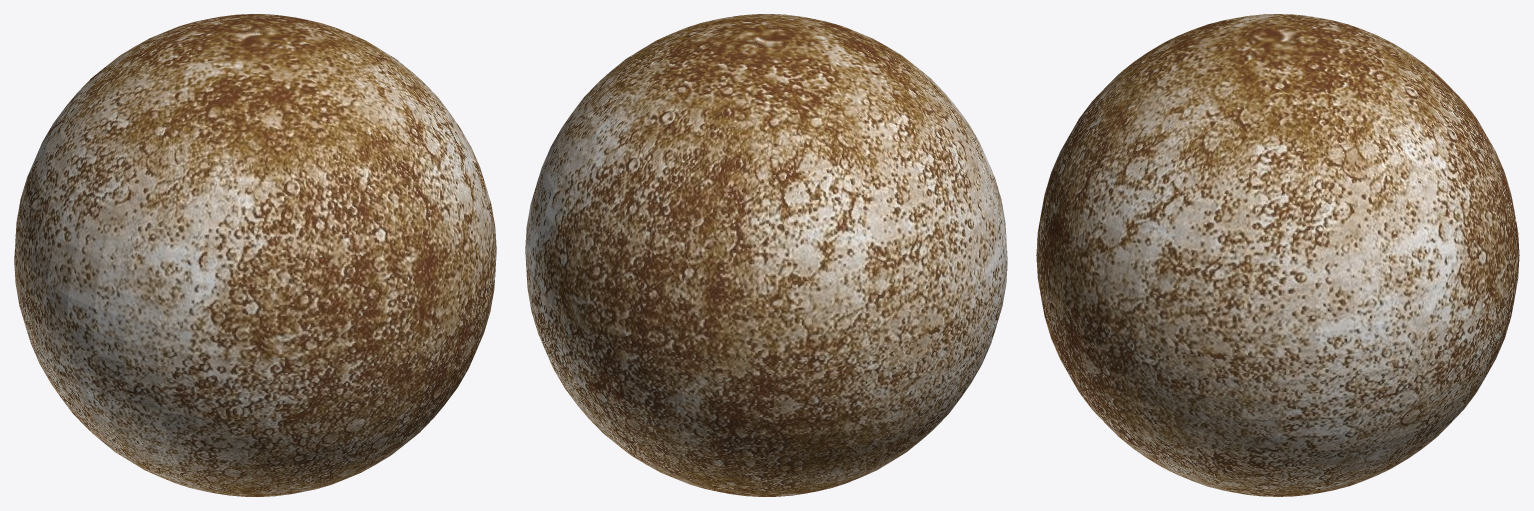
File: Mercure.glb
3 views of the same model, side by side, from view 1: azimuth 30°, elevation 25°; view 2: azimuth 150°, elevation 25°; view 3: azimuth 270°, elevation 25° (orthographic).
Visible parts, largest first — view 1: Sphere_002; view 2: Sphere_002; view 3: Sphere_002.
Part boxes in pixels (<box>): Sphere_002: <box>14,14,496,496</box>; Sphere_002: <box>525,14,1007,496</box>; Sphere_002: <box>1036,14,1519,496</box>.
Size of the model in its own units: 1.46 by 1.45 by 1.46.
Materials: 1 (1 with a texture image).
